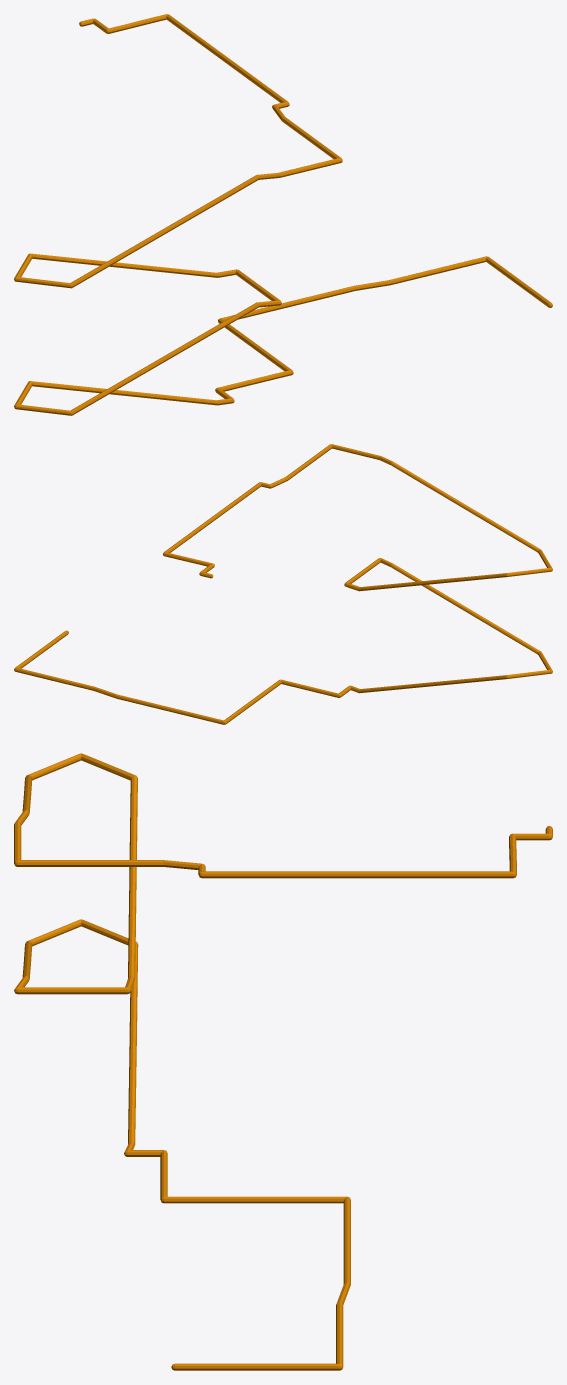
3 views of the same model, one above another, from view 1: azimuth 30°, elevation 25°; view 2: azimuth 150°, elevation 25°; view 3: azimuth 270°, elevation 25° (orthographic). The views are drawn at different scales.
Size of the model in its own units: 2356 by 1020 by 1472.
